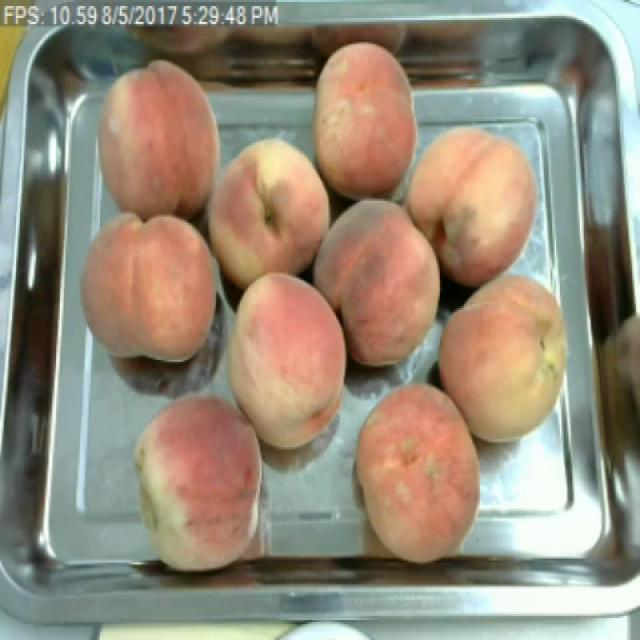Fruit: (124, 386, 276, 580), (296, 185, 451, 374), (396, 113, 551, 296), (429, 266, 584, 448), (69, 202, 231, 374), (215, 262, 357, 458), (198, 127, 346, 306), (347, 374, 489, 560), (86, 50, 230, 228), (303, 28, 428, 209)
